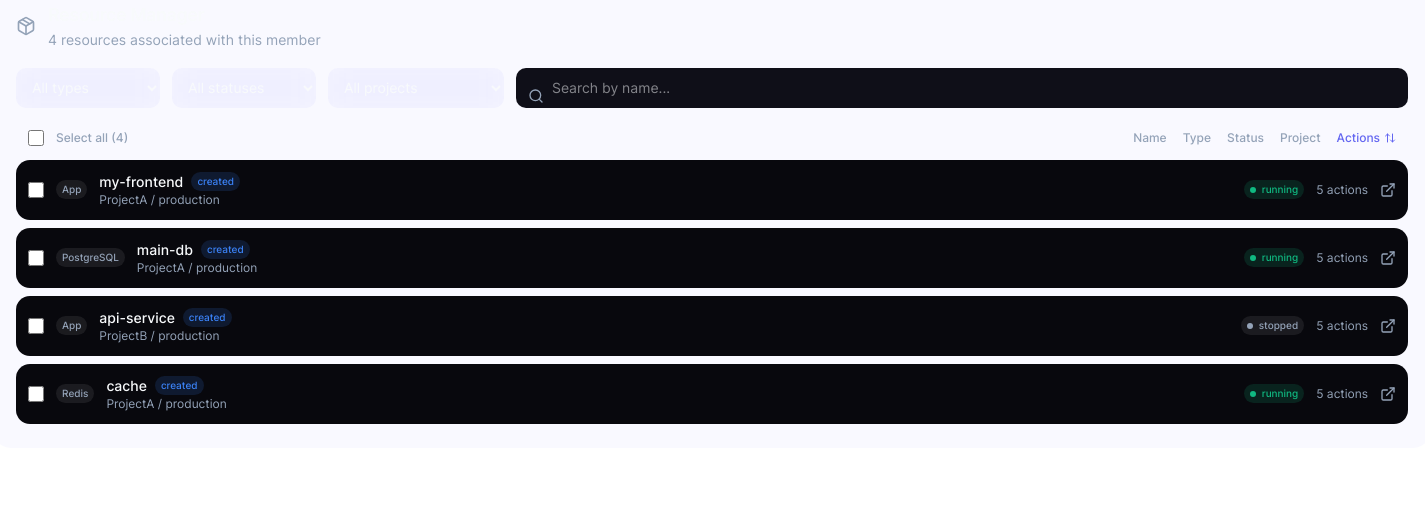
it: ArchiveResourceManager › clear button deselects all
Select all
Click the checkbox next to "Select all": [36, 138] box [28,130,44,146]
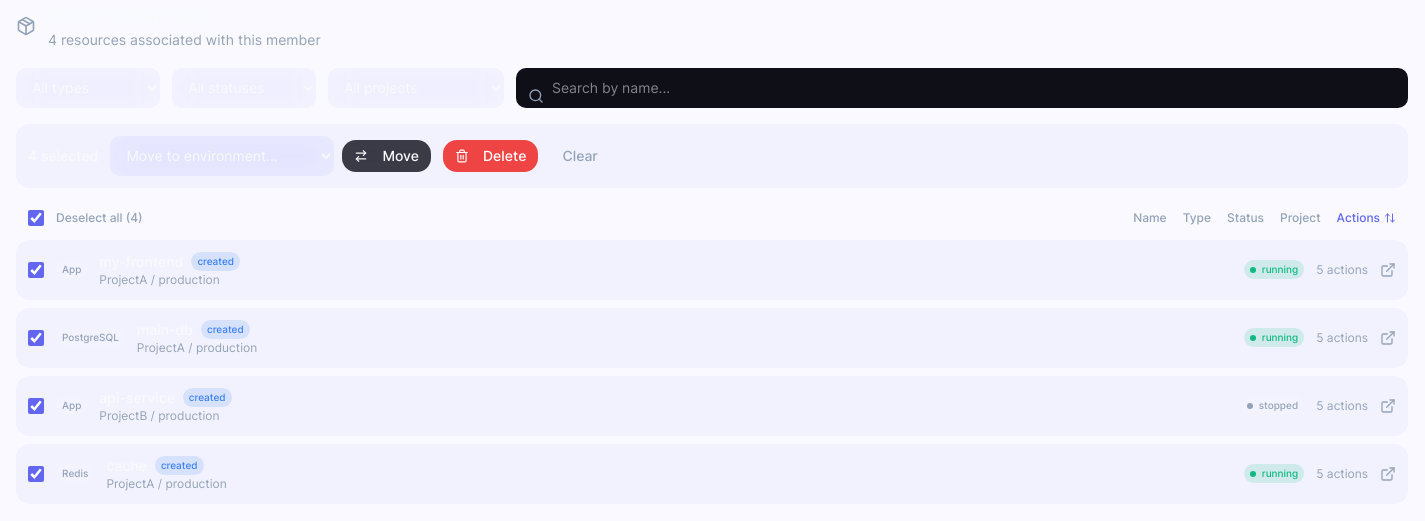
Click clear
Click the button "Clear": [580, 156] box [550,140,610,172]
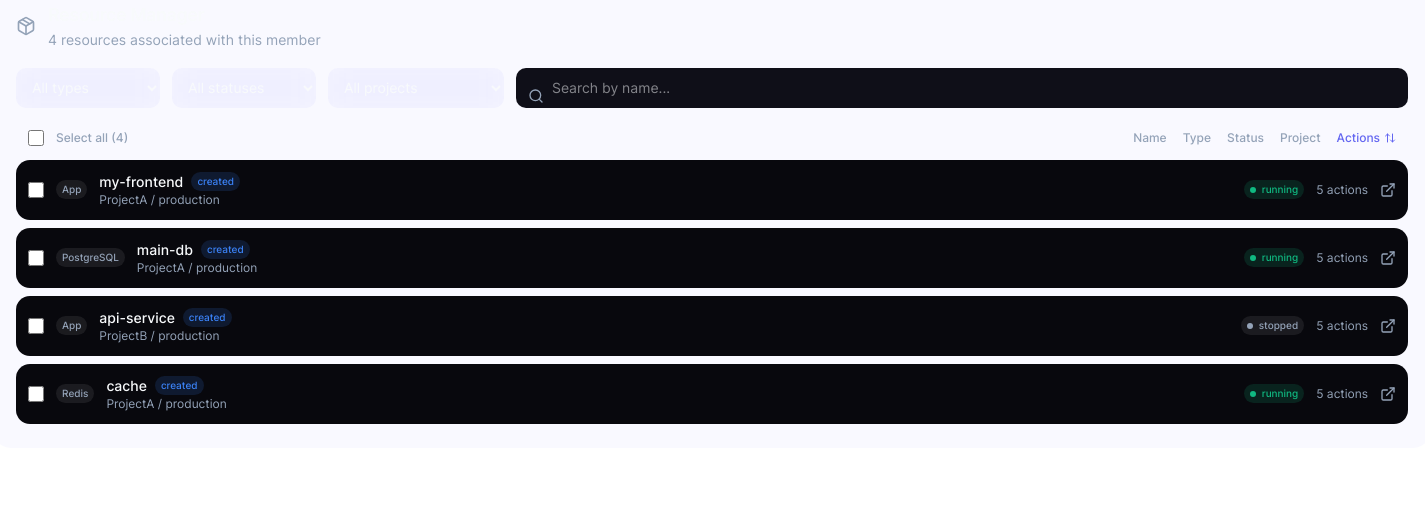
Expected: the text "4 selected" is gone
